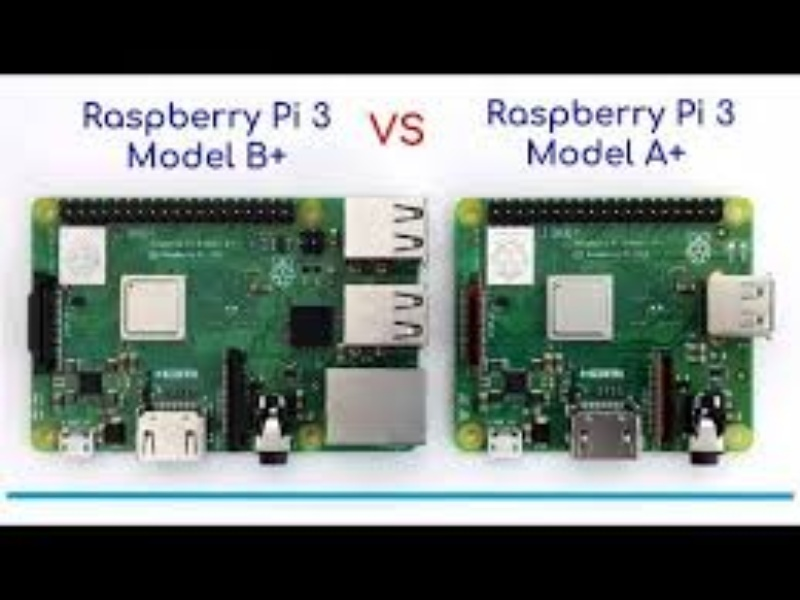raspberrypi: (26, 187, 440, 473)
